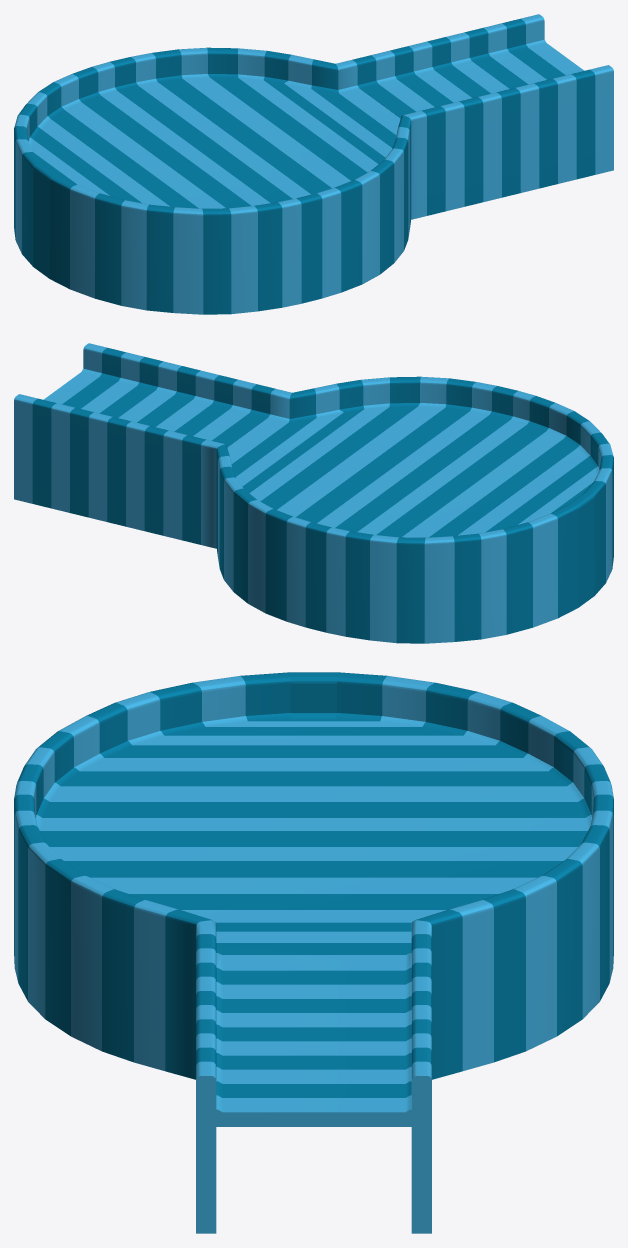
File: level_platform.fbx
3 renders of one model, top to bottom at view 1: azimuth 30°, elevation 25°; view 2: azimuth 150°, elevation 25°; view 3: azimuth 270°, elevation 25°, orthographic. The views are drawn at different scales.
Visible parts, largest first — view 1: final_border, final_platform, border, platform; view 2: final_border, final_platform, border, platform; view 3: final_platform, final_border, platform, border.
Boxes of the visible parts, x1,y1,x2,y2 form: final_border: (14,47,426,314); final_platform: (28,74,400,208); border: (352,14,613,215); platform: (358,39,584,118); final_border: (201,376,613,643); final_platform: (227,403,599,537); border: (14,343,275,544); platform: (43,368,269,447); final_platform: (36,713,591,970); final_border: (14,672,613,1079); platform: (215,968,412,1126); border: (196,934,431,1233).
Bounding box in the file's own units: 117 × 21.24 × 73.24.
